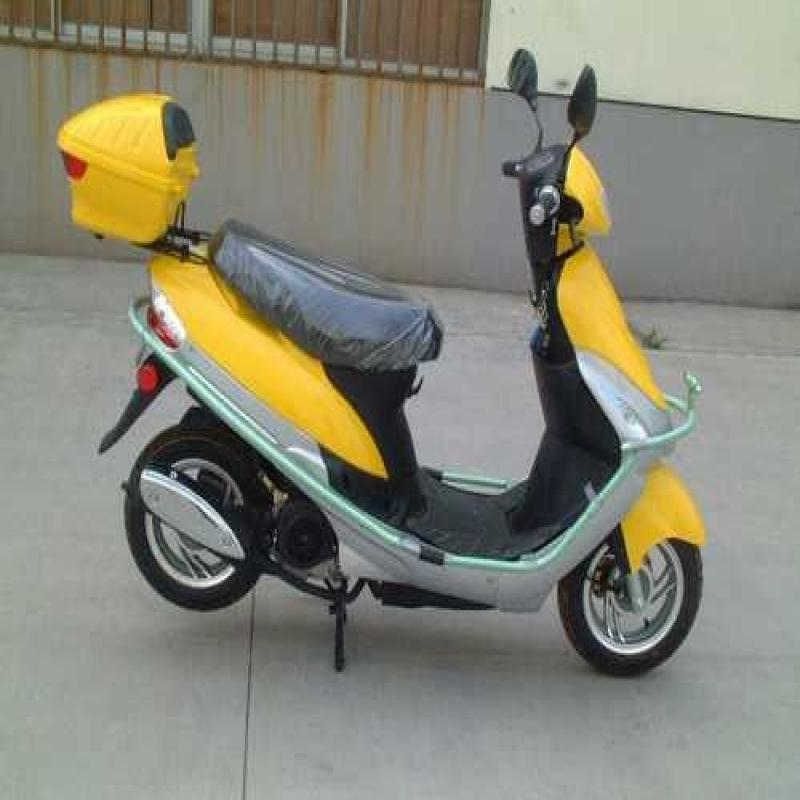bike: (127, 36, 725, 668)
